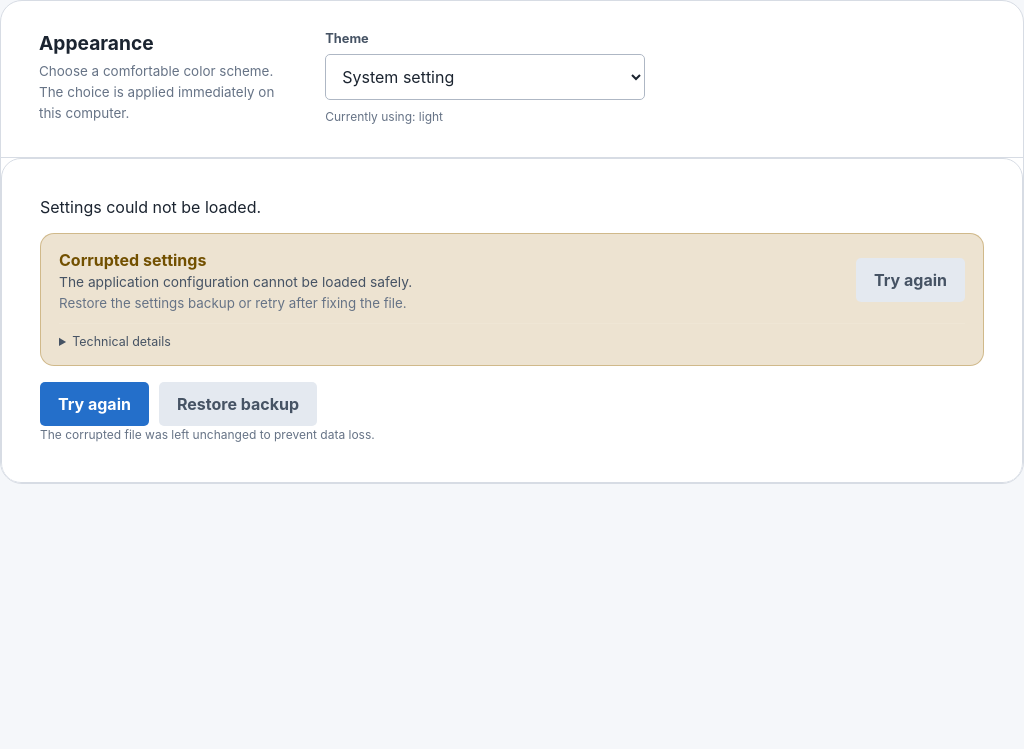
Test case: SettingsPanel › offers backup recovery after a corrupted primary file
The image size is (1024, 749).
Check: the message shows "Corrupted settings", box [59,250,206,270]
Click the button "Restore backup" at point(238, 404), box [159,382,317,426]
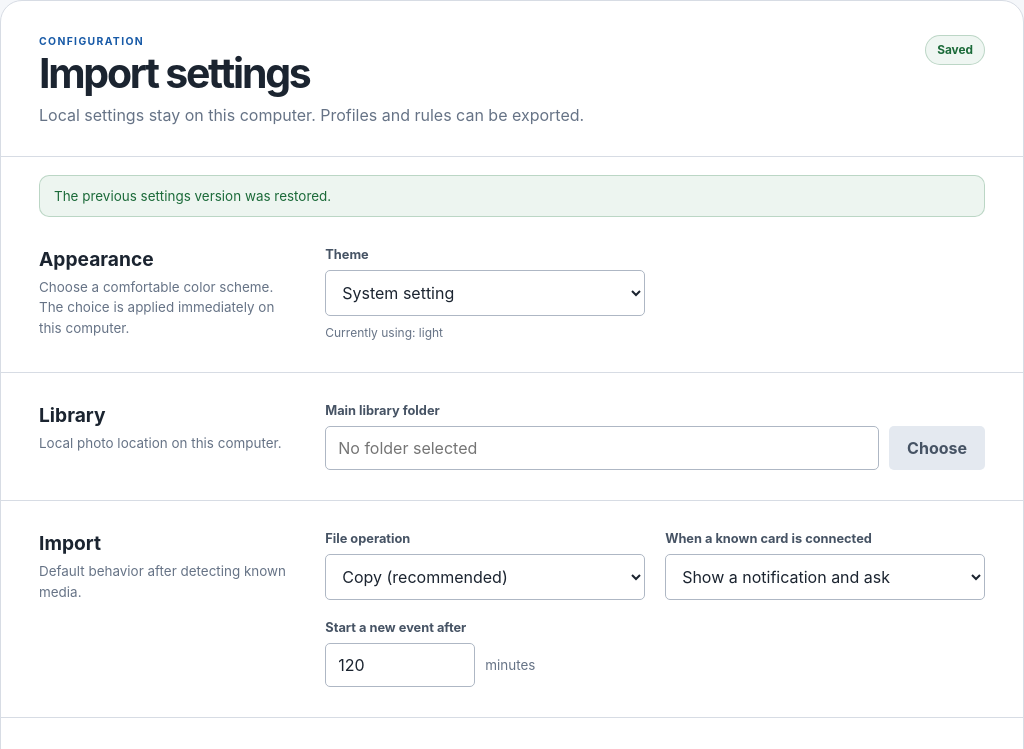
Check: the text "The previous settings version was restored." is shown, box [39,175,985,217]
